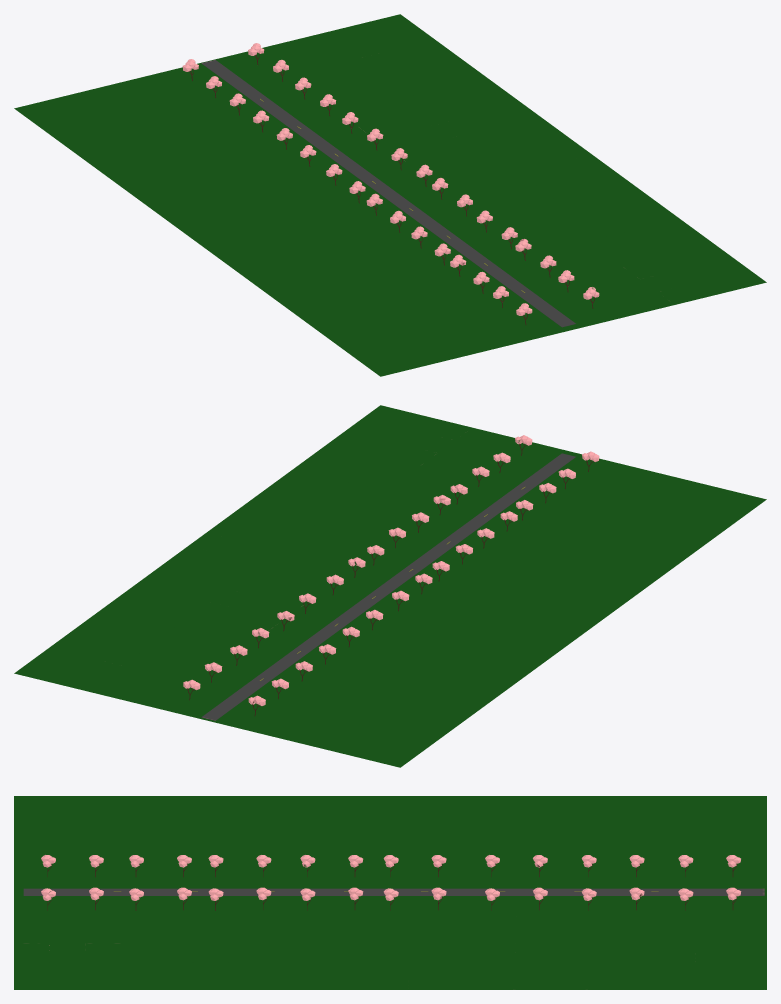
Rendered from Scene_Planebackup2.gltf.
3 renders of one model, top to bottom at view 1: azimuth 30°, elevation 25°; view 2: azimuth 150°, elevation 25°; view 3: azimuth 270°, elevation 25°, orthographic. The views are drawn at different scales.
Parts seen in each view (by area): view 1: Ground; view 2: Ground; view 3: Ground.
Part boxes in pixels (x1,y1,x2,y2): Ground: [14, 14, 766, 376]; Ground: [14, 405, 766, 767]; Ground: [14, 796, 766, 989].
Bounding box in the file's own units: 122 × 6.29 × 200.
1 material, 1 textured.
